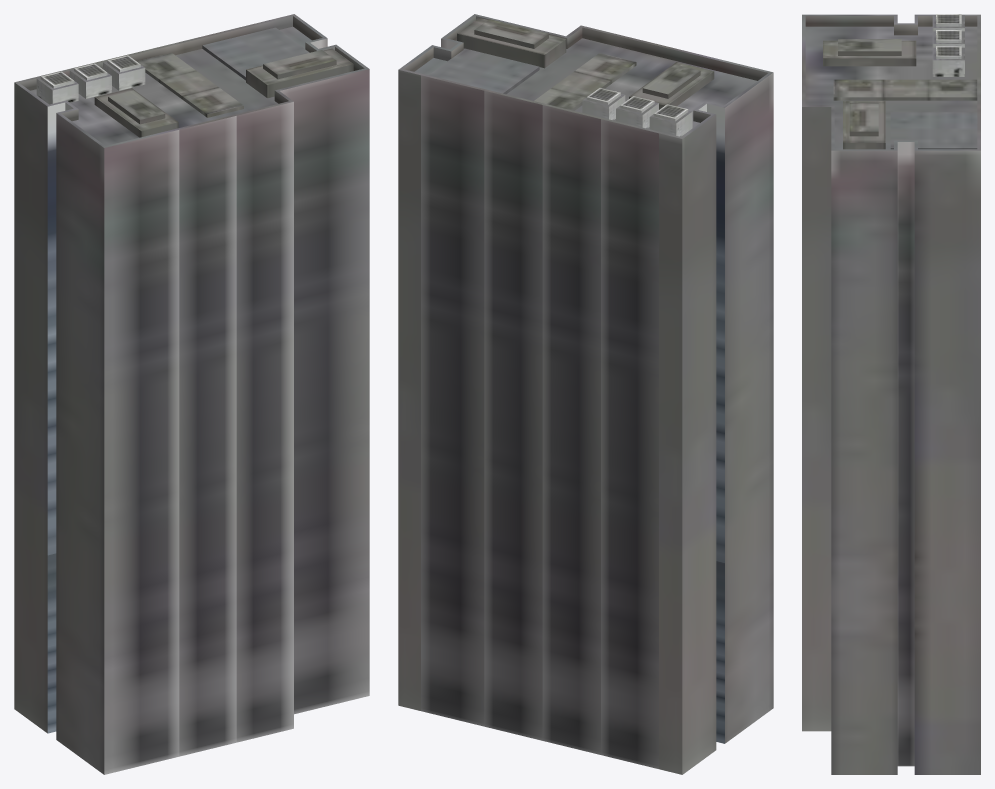
3 views of the same model, side by side, from view 1: azimuth 30°, elevation 25°; view 2: azimuth 150°, elevation 25°; view 3: azimuth 270°, elevation 25° (orthographic).
Size of the model in its own units: 0.3902 by 0.8465 by 0.2168.
1 material, 1 textured.
